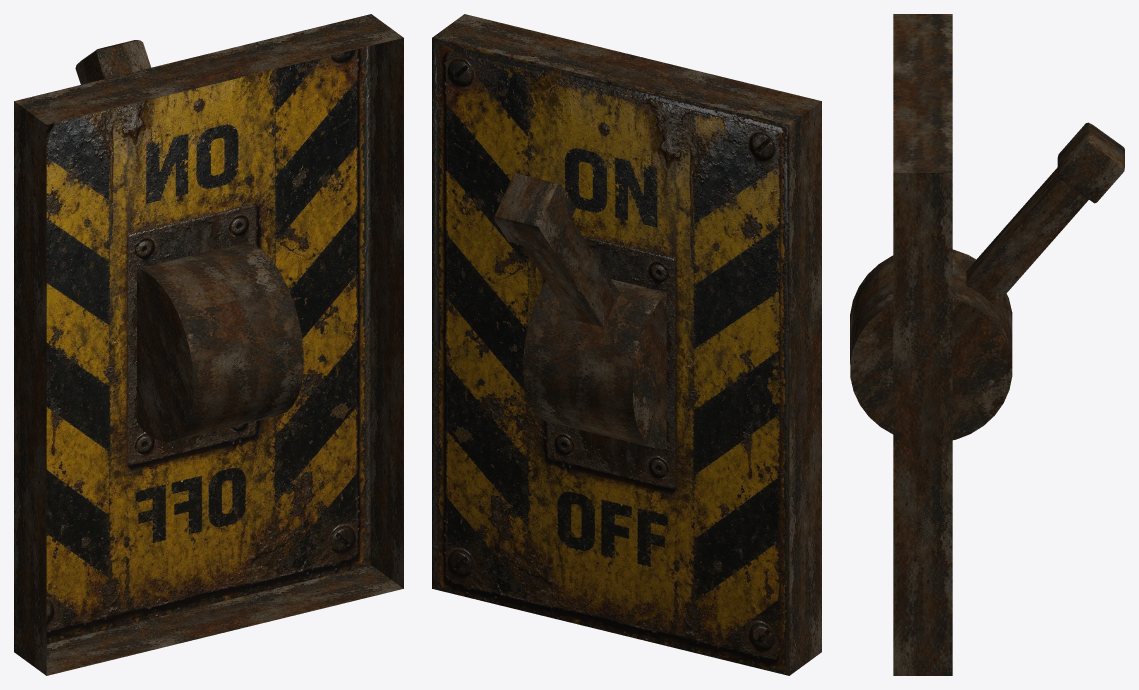
The model's file is power_switch.glb.
3 renders of one model, left to right at view 1: azimuth 30°, elevation 25°; view 2: azimuth 150°, elevation 25°; view 3: azimuth 270°, elevation 25°, orthographic. The views are drawn at different scales.
Visible parts, largest first — view 1: Panel.001, Switch.001; view 2: Panel.001, Switch.001; view 3: Panel.001, Switch.001.
Part boxes in pixels (left/top/right/bottom): Panel.001: left=14, top=14, right=403, bottom=675; Switch.001: left=75, top=40, right=303, bottom=441; Panel.001: left=432, top=14, right=821, bottom=675; Switch.001: left=493, top=173, right=666, bottom=448; Panel.001: left=893, top=14, right=952, bottom=675; Switch.001: left=850, top=122, right=1124, bottom=440.
Bounding box in the file's own units: 0.4483 × 0.6607 × 0.3271.
2 materials, 2 textured.
